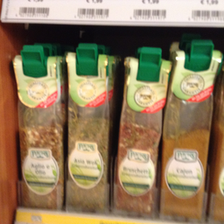spices: (161, 50, 220, 218), (113, 56, 171, 216), (64, 52, 113, 212), (14, 54, 64, 208)
